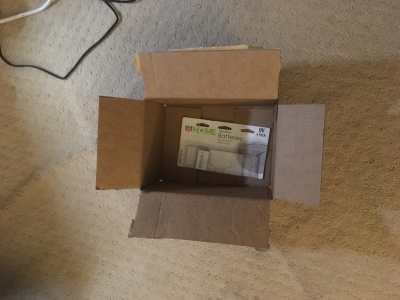innerbox: (143, 98, 276, 201)
outerbox: (98, 51, 321, 247)
product: (178, 116, 266, 180)
